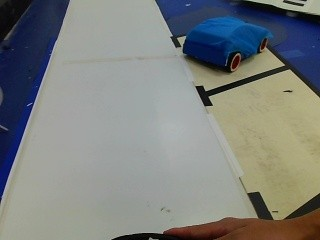car: (181, 17, 271, 74)
